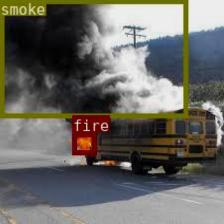fire: (72, 132, 96, 154)
smoke: (0, 0, 187, 117)
